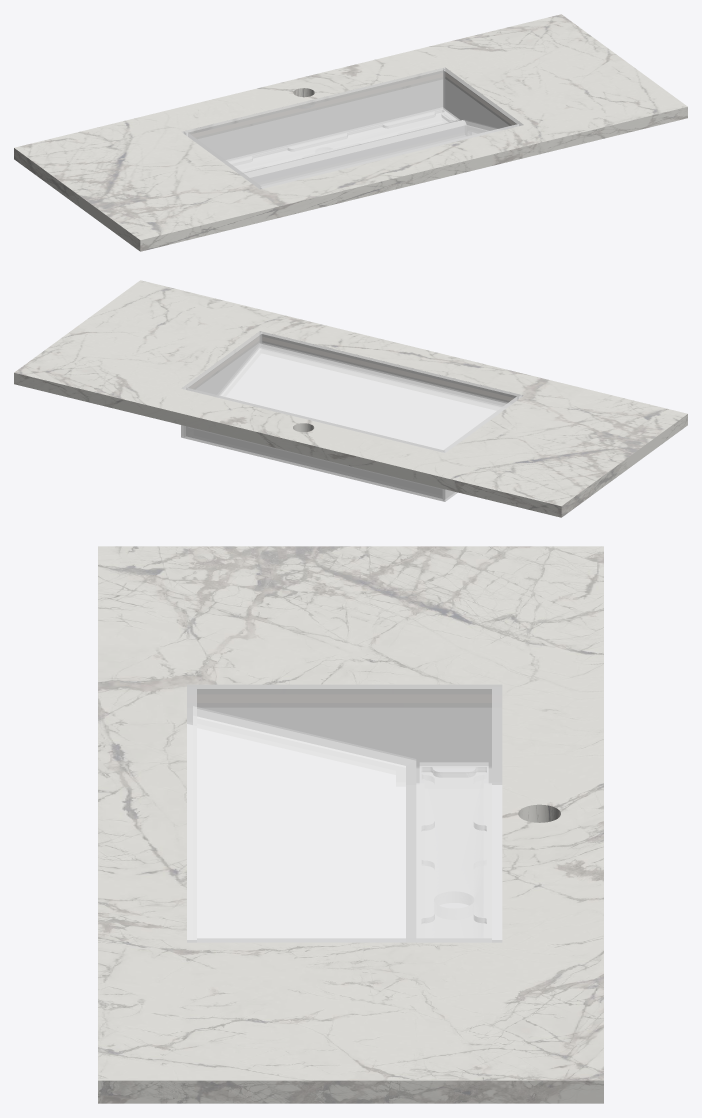
Rendered from GLS912.glb.
3 renders of one model, top to bottom at view 1: azimuth 30°, elevation 25°; view 2: azimuth 150°, elevation 25°; view 3: azimuth 270°, elevation 25°, orthographic. The views are drawn at different scales.
Parts seen in each view (by area): view 1: GLS 912 cer, GLS 912(встраиваемая); view 2: GLS 912 cer, GLS 912(встраиваемая); view 3: GLS 912 cer, GLS 912(встраиваемая).
Part boxes in pixels (<box>): GLS 912 cer: <box>14,14,687,251</box>; GLS 912(встраиваемая): <box>181,67,523,189</box>; GLS 912 cer: <box>14,280,687,517</box>; GLS 912(встраиваемая): <box>181,331,523,501</box>; GLS 912 cer: <box>98,546,603,1103</box>; GLS 912(встраиваемая): <box>187,684,502,942</box>.
Bounding box in the file's own units: 1.5 × 0.128 × 0.6.
3 materials, 1 textured.
